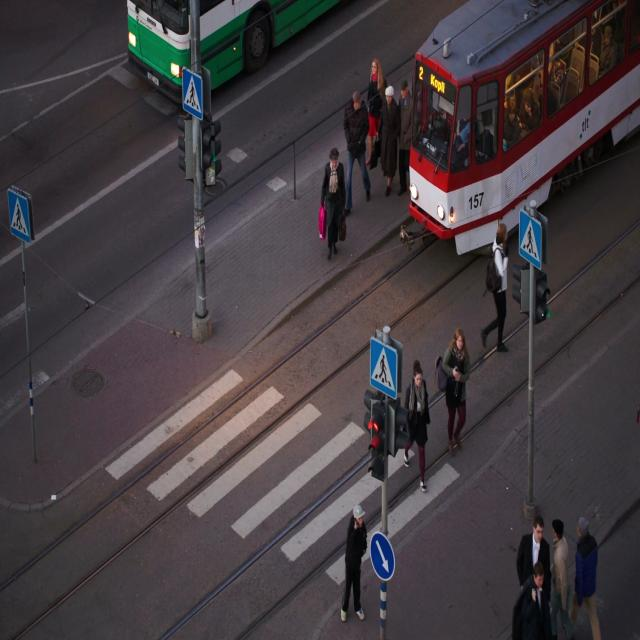pedestrian: (321, 92, 370, 257), (404, 361, 430, 489), (441, 329, 469, 444)
